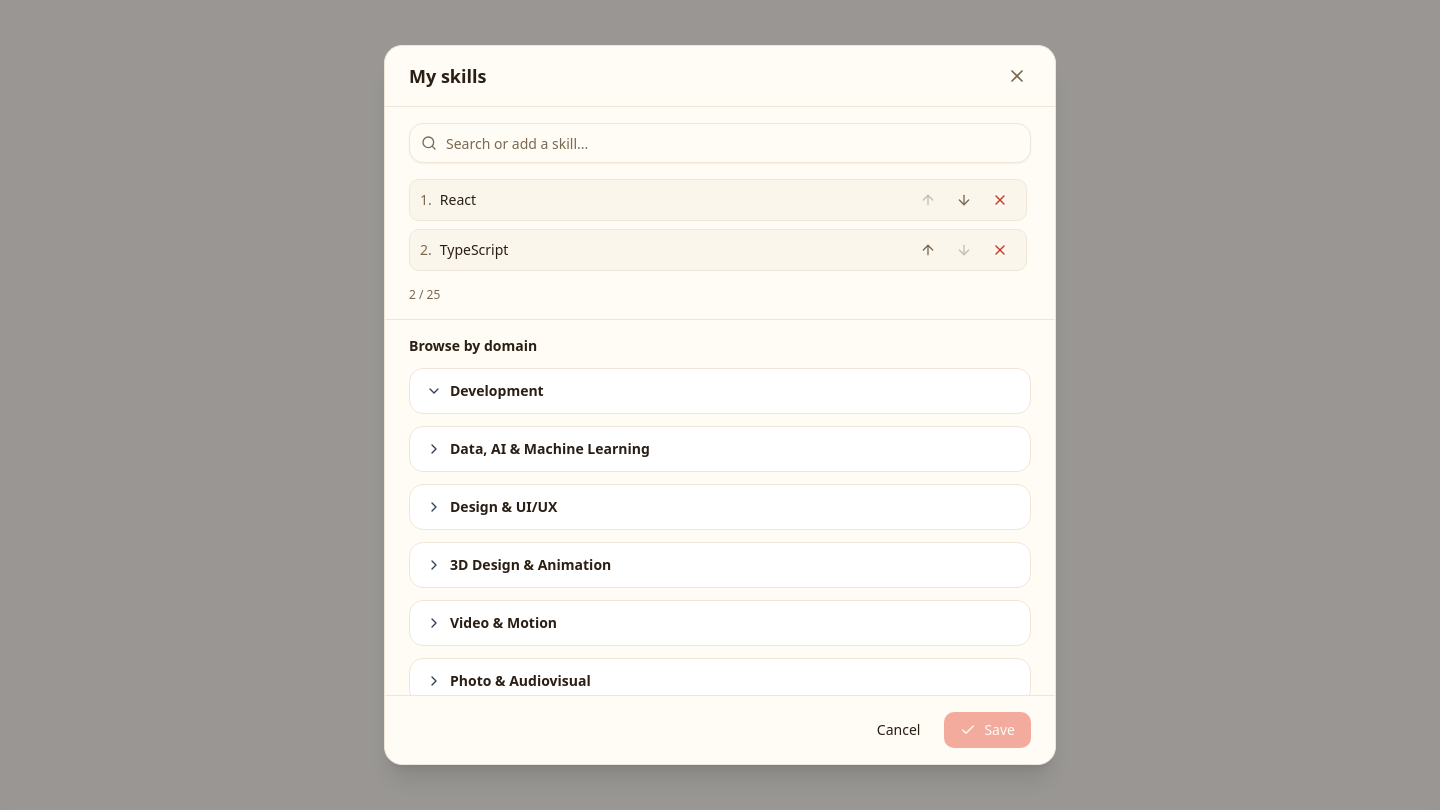
Test case: SkillsEditorModal › removes a skill from the selected list
What coordinates should you click on to do the following:
click the button named "Remove React"
I would click on:
 (1000, 200)
Its box is [984,184,1016,216].
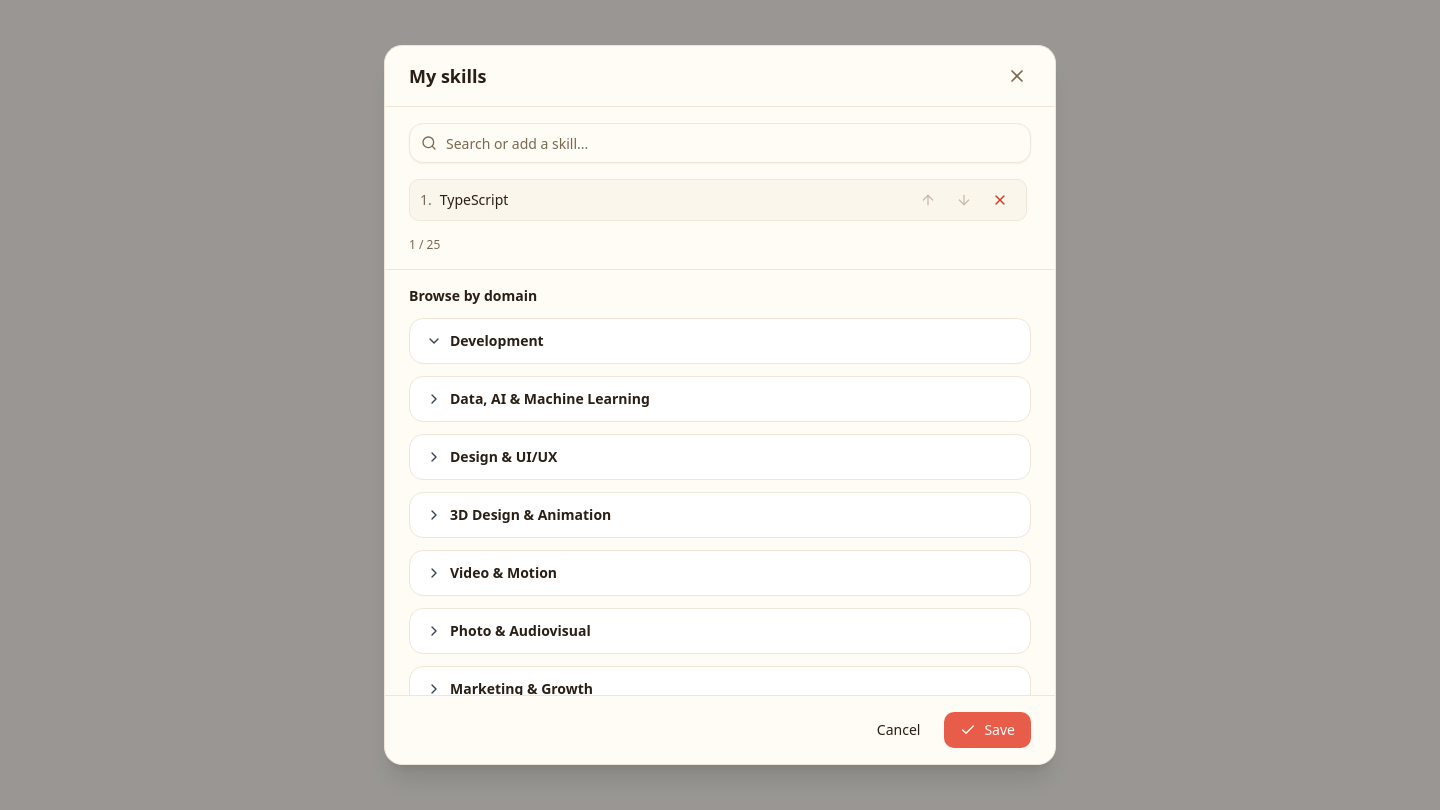
Check: the text "React" is gone
